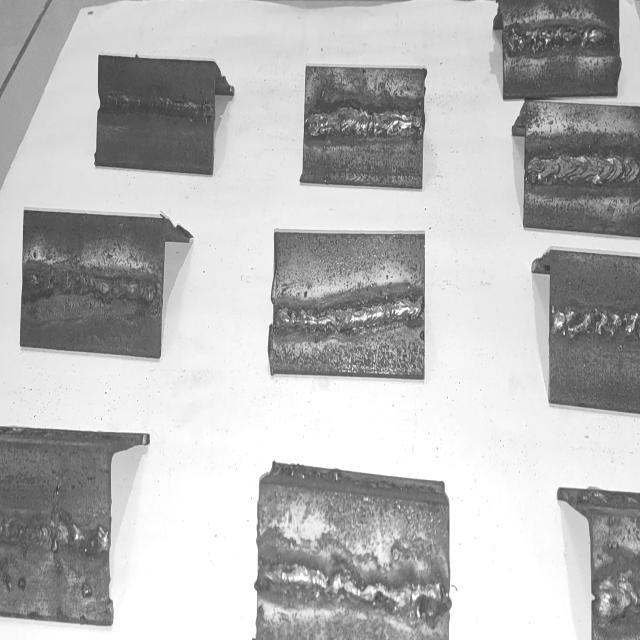Defect: (22, 272, 162, 306), (507, 21, 594, 58), (550, 308, 640, 338), (591, 572, 640, 620)
Welding Line: (260, 562, 446, 627), (276, 295, 424, 335), (23, 272, 159, 310), (98, 92, 214, 124), (507, 24, 618, 56), (307, 110, 422, 140), (1, 522, 108, 554), (552, 306, 640, 340), (528, 157, 638, 183)
Workpiece: (255, 481, 449, 640), (269, 229, 426, 374), (14, 210, 171, 354), (0, 442, 114, 626), (524, 101, 640, 242), (94, 50, 218, 176), (548, 252, 640, 416), (302, 67, 427, 185), (500, 0, 620, 100)
